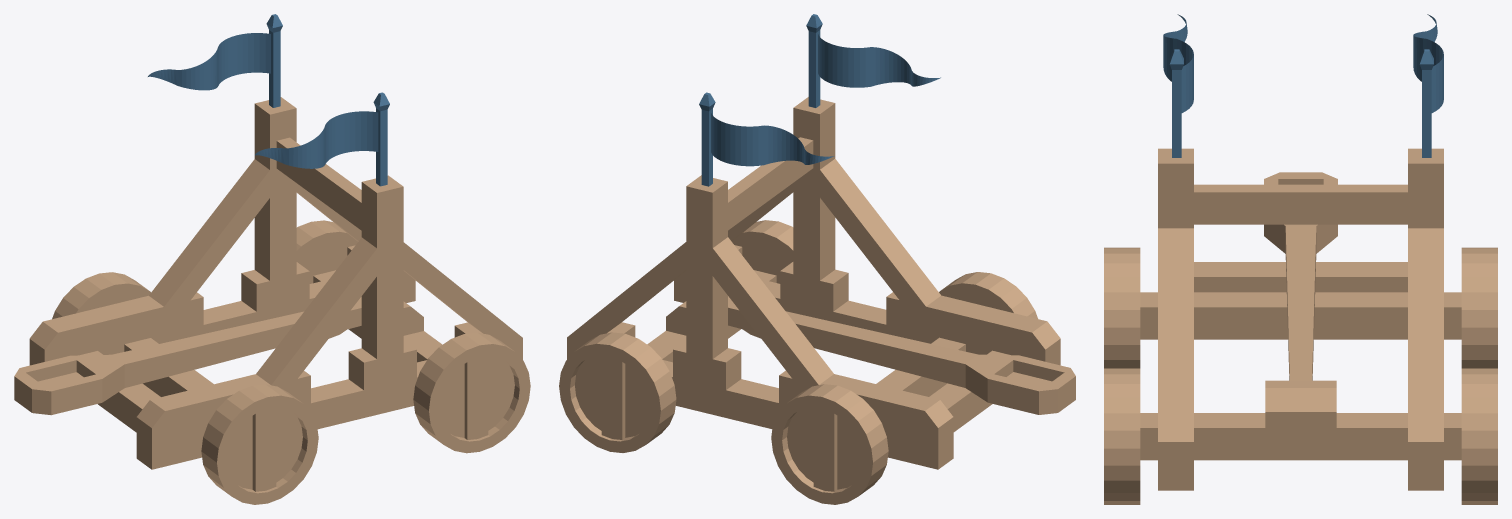
Rendered from siegecatapult.glb.
The picture shows the model from 3 angles, left to right: view 1: azimuth 30°, elevation 25°; view 2: azimuth 150°, elevation 25°; view 3: azimuth 270°, elevation 25°; orthographic projection. The views are drawn at different scales.
Visible parts, largest first — view 1: body 6, catapult 4, wheelBackRight 8, wheelFrontRight 11, flag 23, flag 22, wheelFrontLeft 11, wheelBackLeft 8; view 2: body 6, catapult 4, wheelFrontLeft 11, wheelBackLeft 8, flag 23, flag 22, wheelFrontRight 11, wheelBackRight 8; view 3: body 6, catapult 4, wheelFrontLeft 11, wheelFrontRight 11, wheelBackLeft 8, wheelBackRight 8, flag 22, flag 23.
Boxes of the visible parts, box(x1,y1,x2,y2) form: body 6: box(29, 97, 522, 469); catapult 4: box(14, 298, 361, 415); wheelBackRight 8: box(201, 384, 318, 504); wheelFrontRight 11: box(413, 332, 530, 453); flag 23: box(254, 92, 389, 186); flag 22: box(148, 14, 282, 107); wheelFrontLeft 11: box(296, 220, 357, 338); wheelBackLeft 8: box(52, 272, 150, 319); body 6: box(567, 97, 1060, 469); catapult 4: box(728, 298, 1075, 414); wheelFrontLeft 11: box(559, 332, 676, 452); wheelBackLeft 8: box(771, 384, 888, 504); flag 23: box(806, 14, 940, 107); flag 22: box(699, 92, 834, 186); wheelFrontRight 11: box(732, 220, 793, 338); wheelBackRight 8: box(939, 272, 1037, 318); body 6: box(1140, 148, 1461, 490); catapult 4: box(1264, 172, 1337, 380); wheelFrontLeft 11: box(1461, 368, 1497, 504); wheelFrontRight 11: box(1104, 368, 1140, 504); wheelBackLeft 8: box(1461, 247, 1497, 368); wheelBackRight 8: box(1104, 247, 1140, 368); flag 22: box(1413, 14, 1443, 157); flag 23: box(1163, 14, 1193, 157).
Size of the model in its own units: 17.35 by 13.3 by 11.57.
